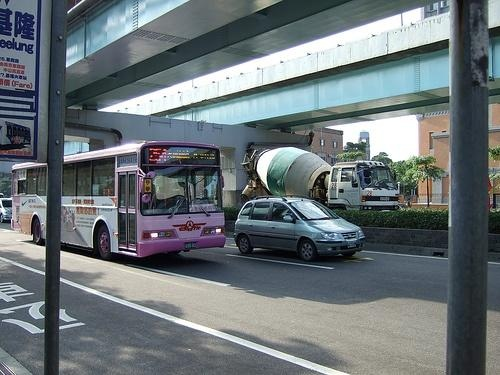bus: (13, 142, 227, 261)
car: (236, 198, 366, 260), (1, 198, 13, 225)
